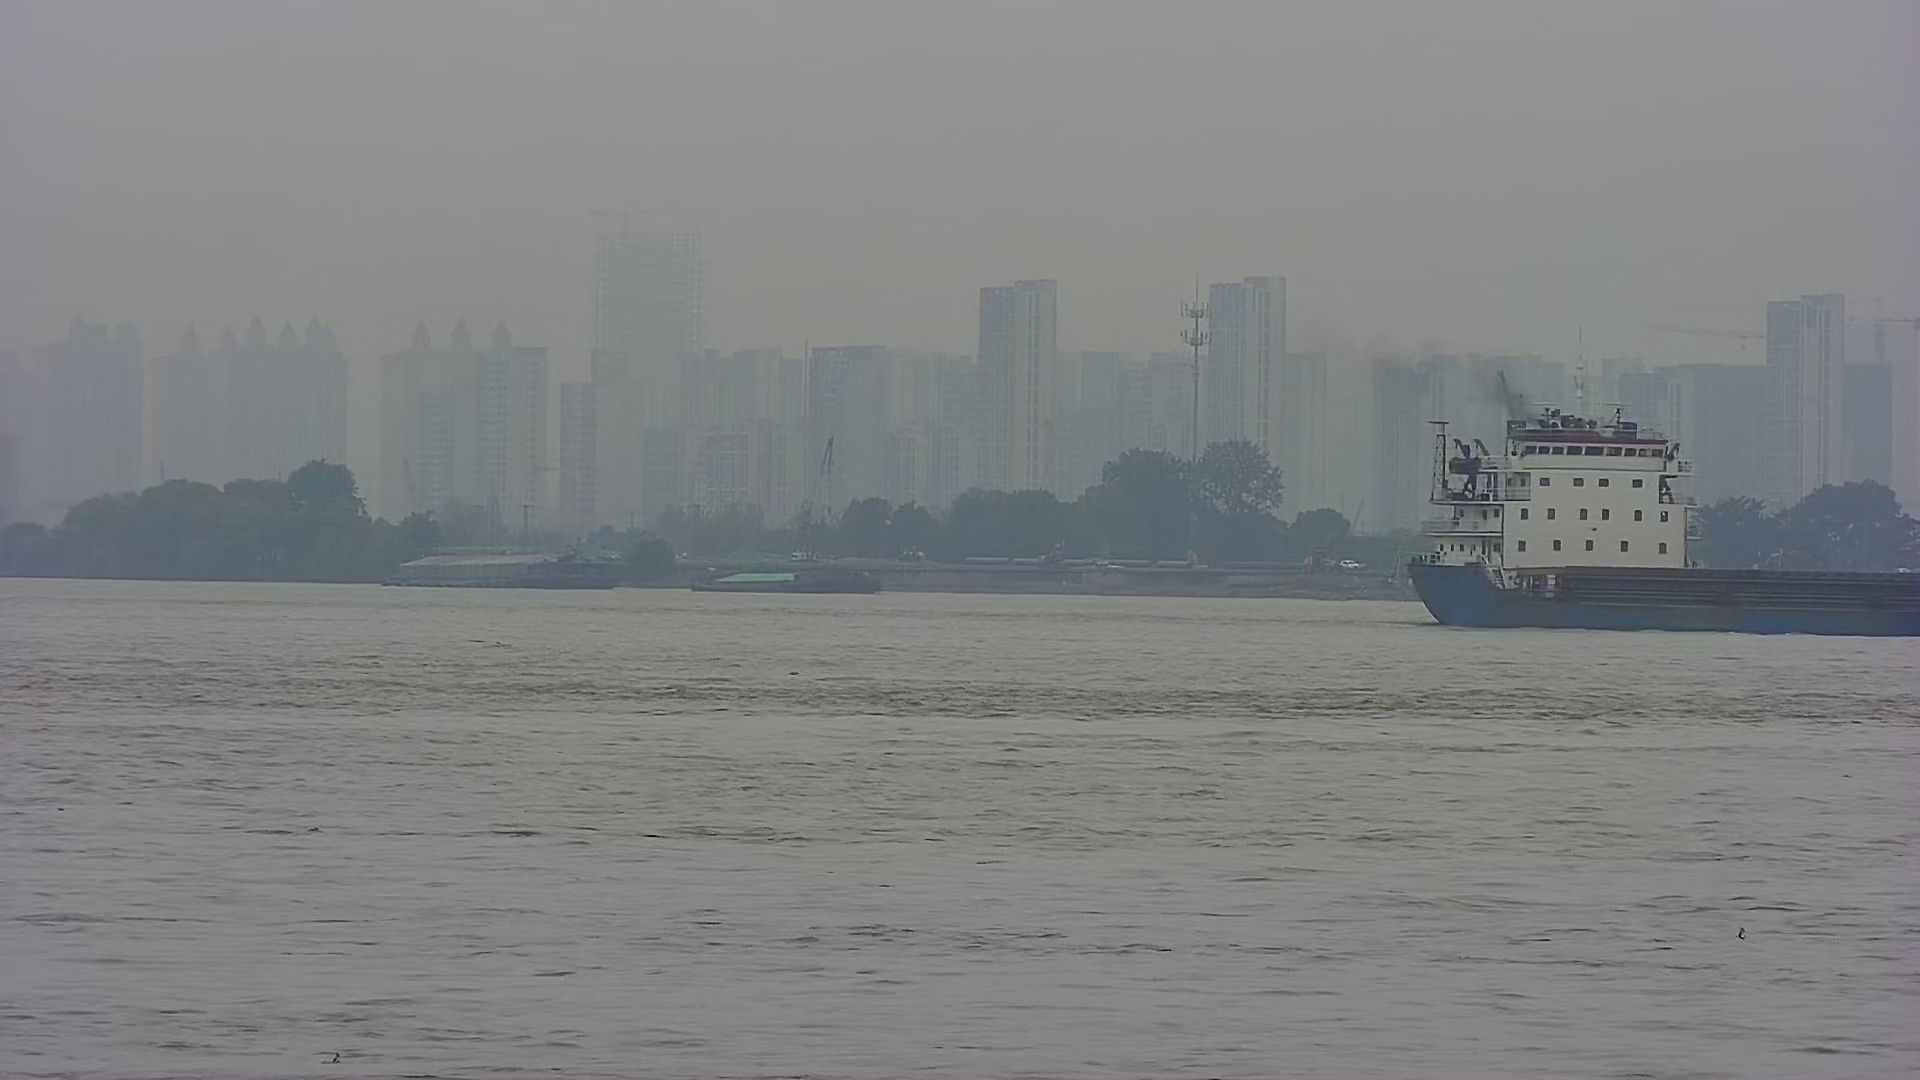boat: (676, 559, 905, 601)
ship: (1402, 386, 1920, 644)
